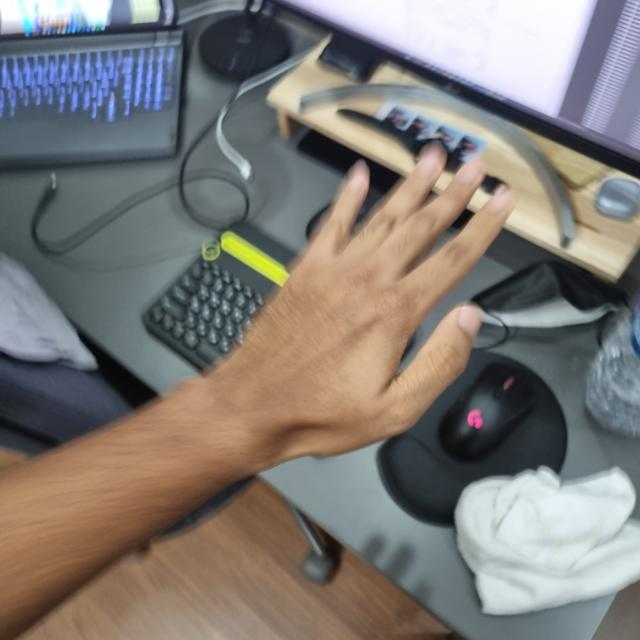Paper: (209, 151, 513, 460)
